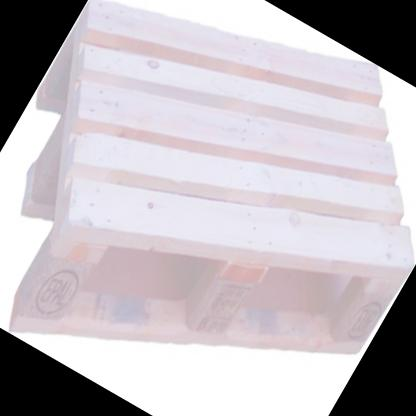BoxFace: (7, 0, 416, 358)
